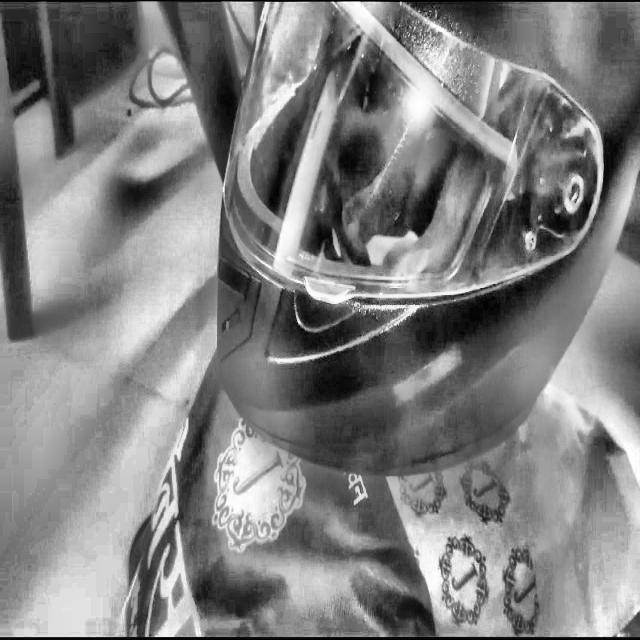Helmet: (214, 0, 640, 485)
